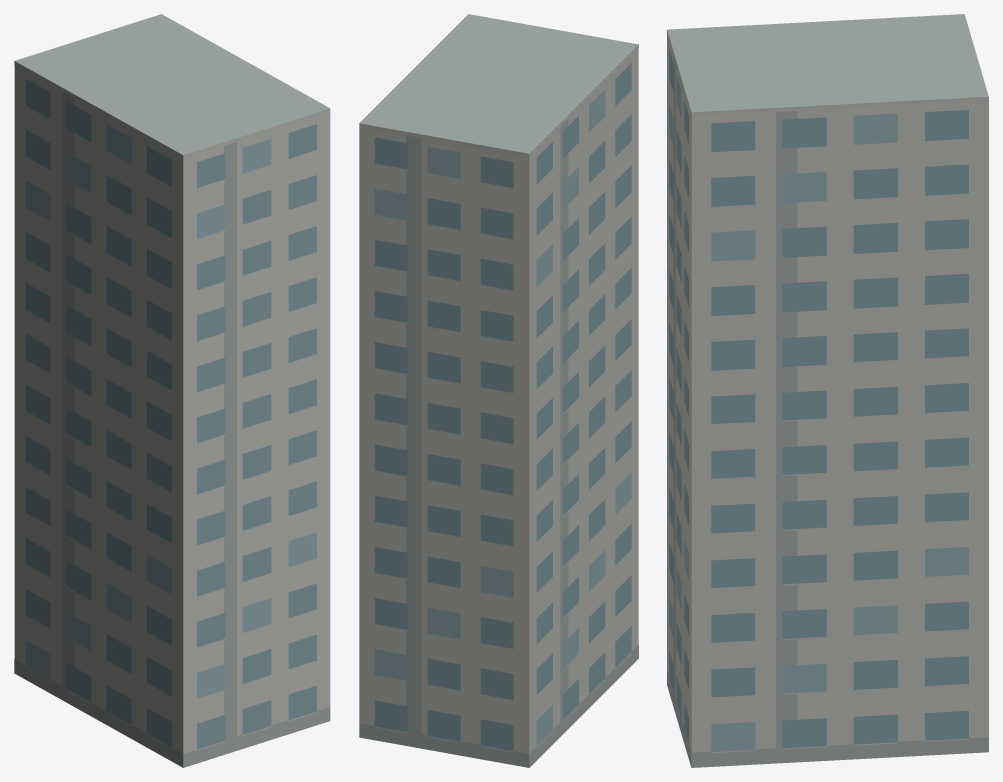
Rendered from residential-855fbc48-7a94-49c1-8b41-5b0b179ffff1.glb.
The picture shows the model from 3 angles, left to right: view 1: azimuth 30°, elevation 25°; view 2: azimuth 150°, elevation 25°; view 3: azimuth 270°, elevation 25°; orthographic projection. The views are drawn at different scales.
Visible parts, largest first — view 1: residential-855fbc48-7a94-49c1-8b41-5b0b179ffff1.tmp; view 2: residential-855fbc48-7a94-49c1-8b41-5b0b179ffff1.tmp; view 3: residential-855fbc48-7a94-49c1-8b41-5b0b179ffff1.tmp.
Part boxes in pixels (x1,y1,x2,y2): residential-855fbc48-7a94-49c1-8b41-5b0b179ffff1.tmp: (14, 14, 330, 767); residential-855fbc48-7a94-49c1-8b41-5b0b179ffff1.tmp: (359, 14, 638, 767); residential-855fbc48-7a94-49c1-8b41-5b0b179ffff1.tmp: (667, 14, 988, 767).
Size of the model in its own units: 12.88 by 40 by 17.8.
